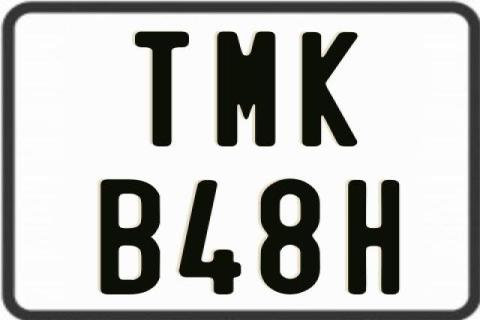0: (179, 178, 243, 294), (257, 177, 319, 295)
B: (101, 178, 161, 298)
H: (345, 179, 399, 299)
K: (302, 29, 358, 149)
M: (217, 30, 279, 148)
T: (133, 30, 189, 146)
